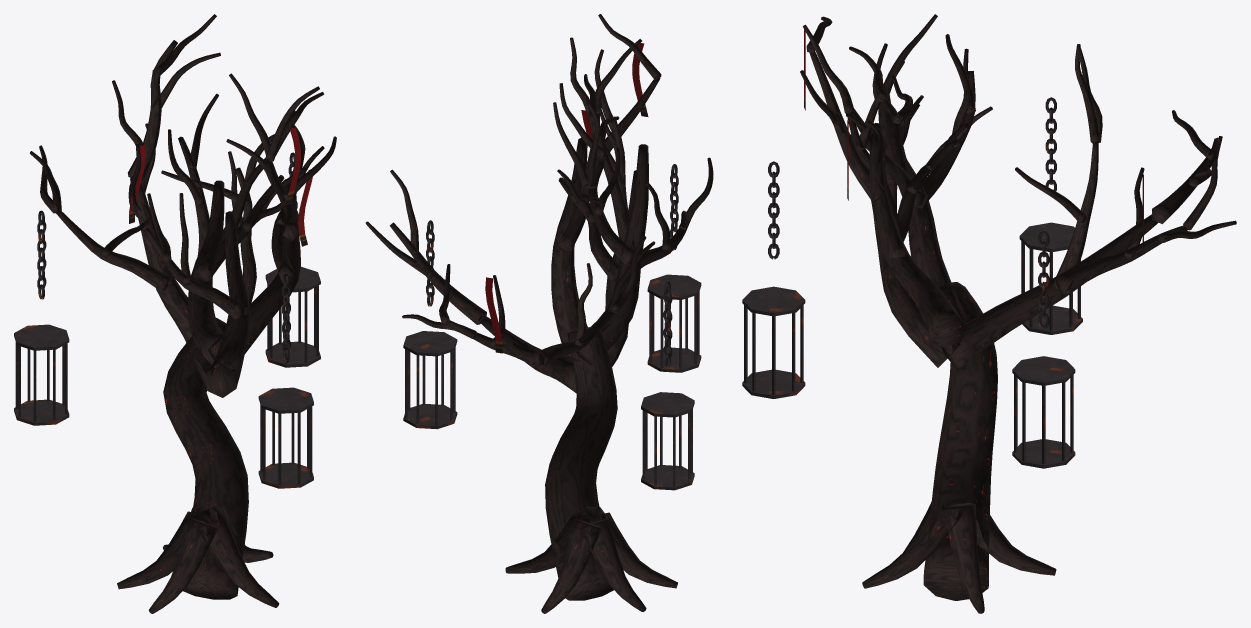
File: hanged_tree.glb
3 views of the same model, side by side, from view 1: azimuth 30°, elevation 25°; view 2: azimuth 150°, elevation 25°; view 3: azimuth 270°, elevation 25° (orthographic). The views are drawn at different scales.
Parts seen in each view (by area): view 1: DeadTree, Gibbets, Chains, DeadTreeRibbons; view 2: DeadTree, Gibbets, Chains, DeadTreeRibbons; view 3: DeadTree, Gibbets, Chains.
Part boxes in pixels (<box>): DeadTree: <box>30,14,336,613</box>; Gibbets: <box>14,266,320,488</box>; Chains: <box>37,152,297,362</box>; DeadTreeRibbons: <box>129,127,312,246</box>; DeadTree: <box>365,14,713,613</box>; Gibbets: <box>403,274,701,490</box>; Chains: <box>426,164,678,367</box>; DeadTreeRibbons: <box>485,42,648,353</box>; DeadTree: <box>800,14,1236,613</box>; Gibbets: <box>742,222,1082,468</box>; Chains: <box>768,97,1056,328</box>.
Size of what is drawn, in the model's own units: 5.4 by 9.4 by 7.04.
Materials: 3 (3 with a texture image).
